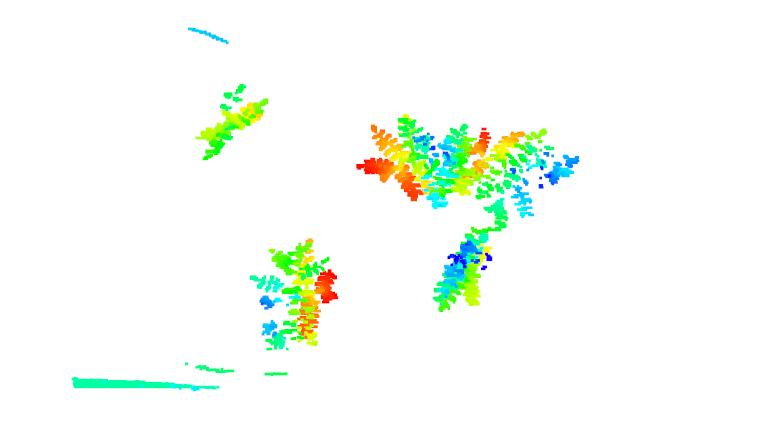chickpea: (460, 121, 581, 229), (358, 112, 480, 203), (251, 237, 338, 353), (195, 83, 271, 162), (432, 226, 497, 313)
